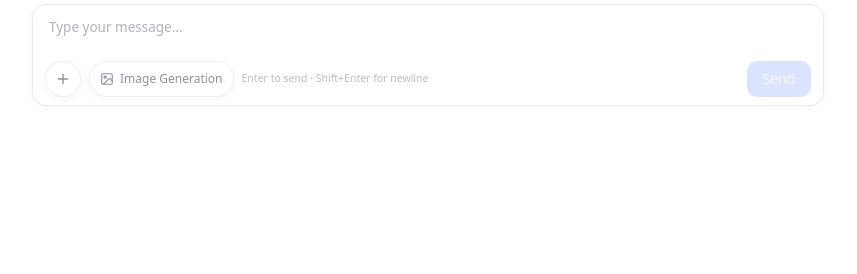
ThreadComposer › opens a slash command palette and inserts the selected command
The image size is (857, 274).
Type "/" into the text box named "Message input" at (428, 30), box [33, 5, 823, 55]
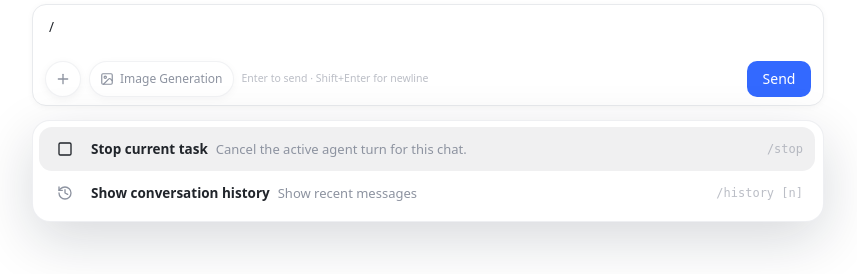
Now the list named "Slash commands" is shown, box [32, 120, 824, 222]
Press ArrowDown in the text box named "Message input", box [33, 5, 823, 55]
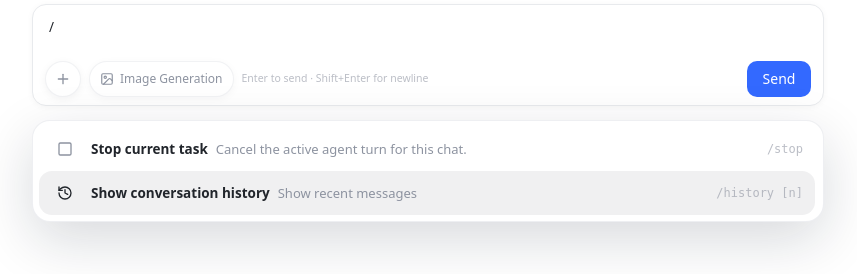
Now the option "Show conversation history Show recent messages /history [n]" is selected, box [39, 171, 815, 215]
Press Enter in the text box named "Message input", box [33, 5, 823, 55]
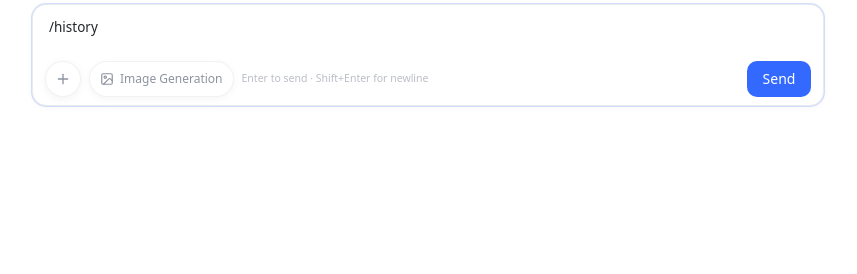
Now the text box named "Message input" holds "/history ", box [33, 5, 823, 55]
